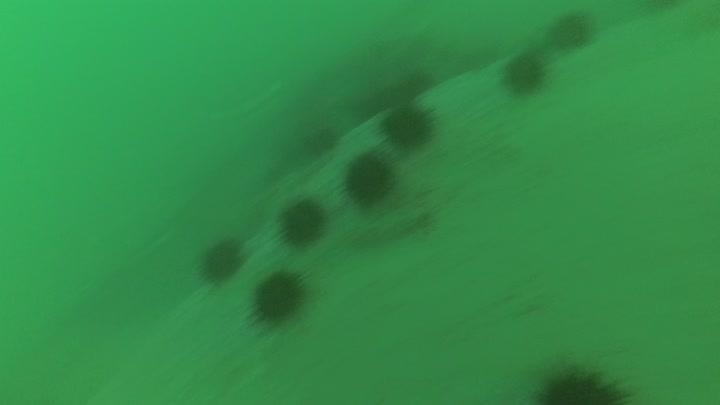echinus: (533, 361, 635, 404), (247, 267, 311, 327), (341, 149, 397, 208), (379, 101, 438, 151), (276, 195, 329, 249), (196, 235, 247, 286), (500, 49, 550, 98), (545, 9, 597, 52), (393, 67, 438, 102), (300, 122, 342, 158)
